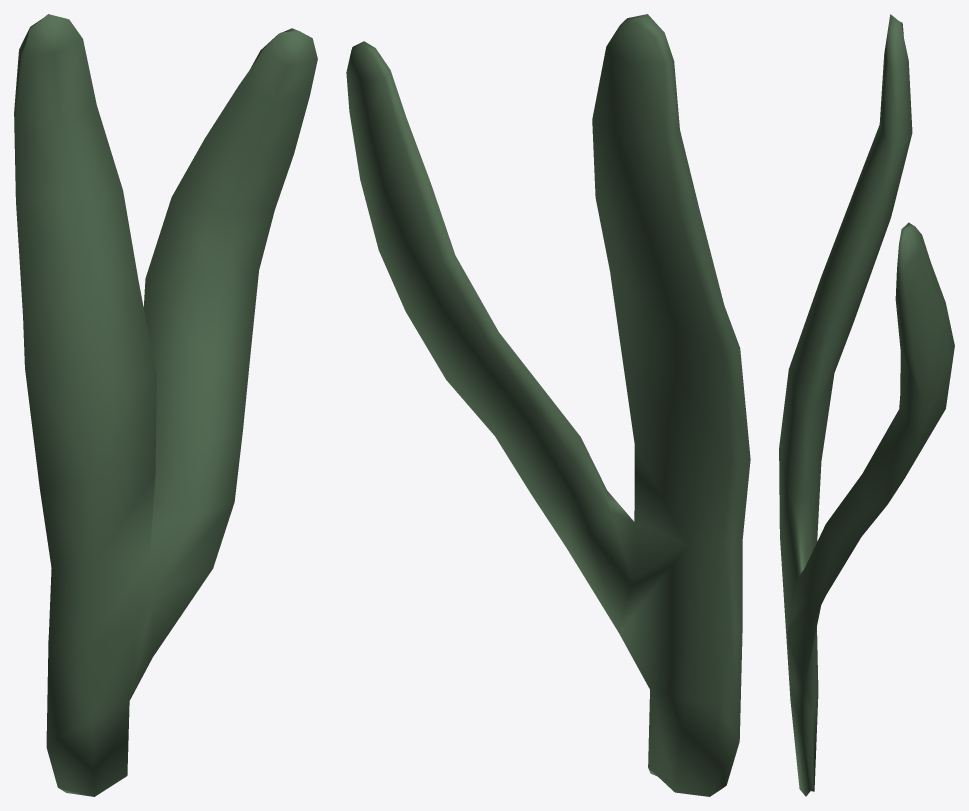
Rendered from seaweed01.fbx.
3 renders of one model, left to right at view 1: azimuth 30°, elevation 25°; view 2: azimuth 150°, elevation 25°; view 3: azimuth 270°, elevation 25°, orthographic. The views are drawn at different scales.
Visible parts, largest first — view 1: seaweed2; view 2: seaweed2; view 3: seaweed2.
Boxes of the visible parts, box(x1,y1,x2,y2) form: seaweed2: box(14, 14, 317, 796); seaweed2: box(346, 14, 750, 796); seaweed2: box(779, 14, 954, 796).
Bounding box in the file's own units: 46.87 × 103 × 21.17.
